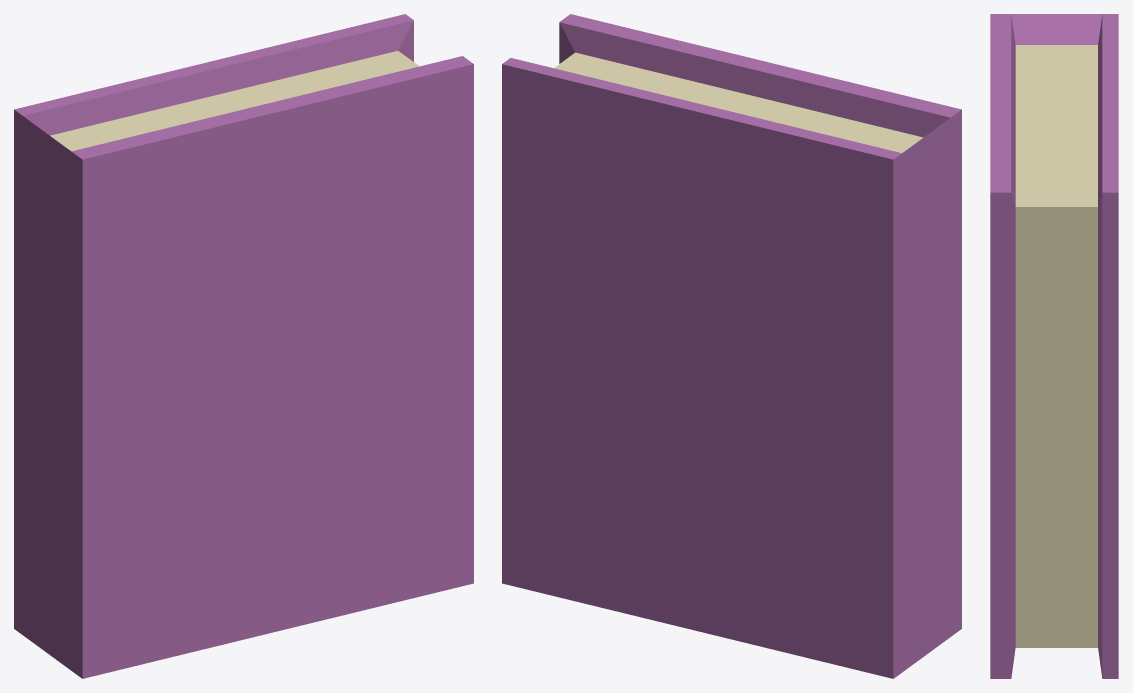
The model's file is book purple.fbx.
The picture shows the model from 3 angles, left to right: view 1: azimuth 30°, elevation 25°; view 2: azimuth 150°, elevation 25°; view 3: azimuth 270°, elevation 25°; orthographic projection. The views are drawn at different scales.
Parts seen in each view (by area): view 1: Cube; view 2: Cube; view 3: Cube.
Part boxes in pixels (x1,y1,x2,y2): Cube: (14,14,473,678); Cube: (502,14,961,678); Cube: (990,14,1118,678).
Size of the model in its own units: 200 by 254 by 60.64.
